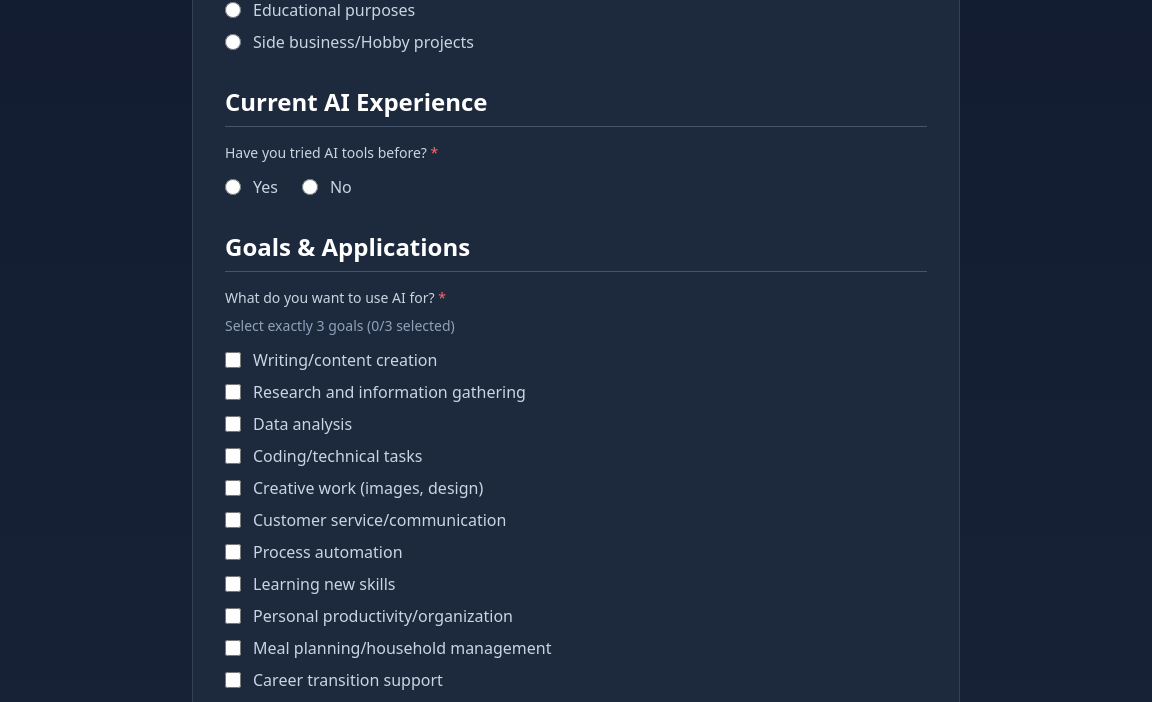
Test: Register Component - Extended Form › Goals Section › updates counter when goals are selected
(page scrolled)
Click the checkbox labelled "Writing/content creation" at (233, 360), box x1=225 y1=352 x2=241 y2=368
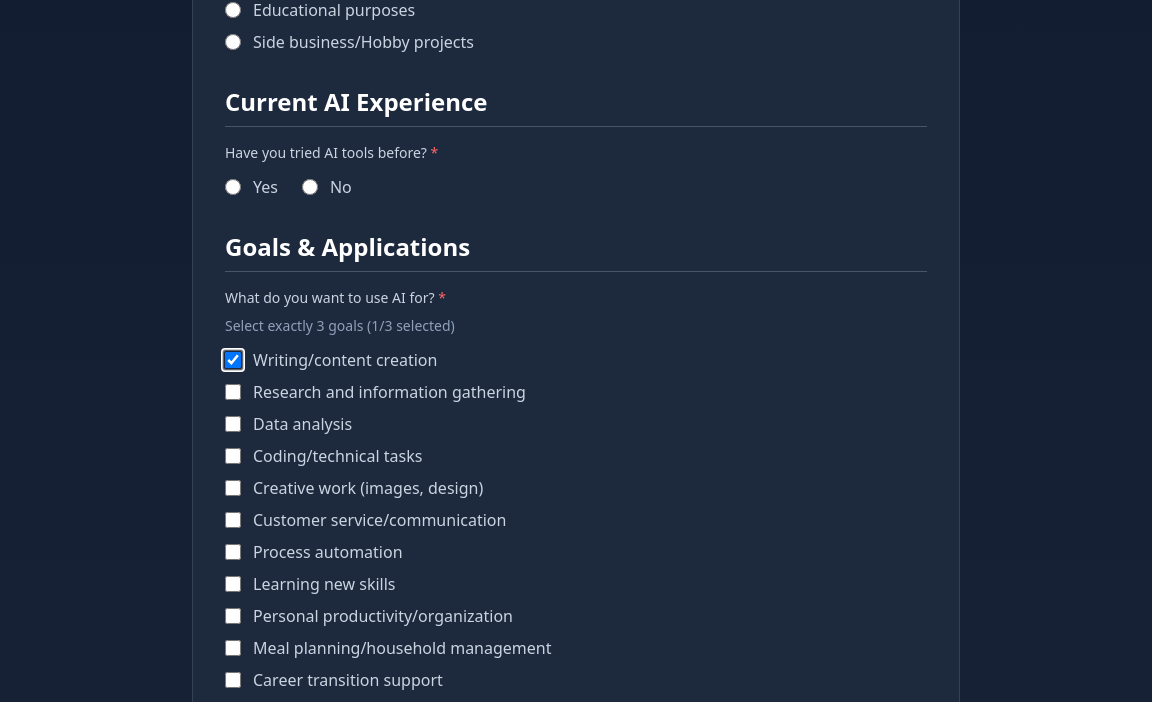
Result: the text "Select exactly 3 goals (1/3 selected)" is shown at x1=225 y1=316 x2=455 y2=335
